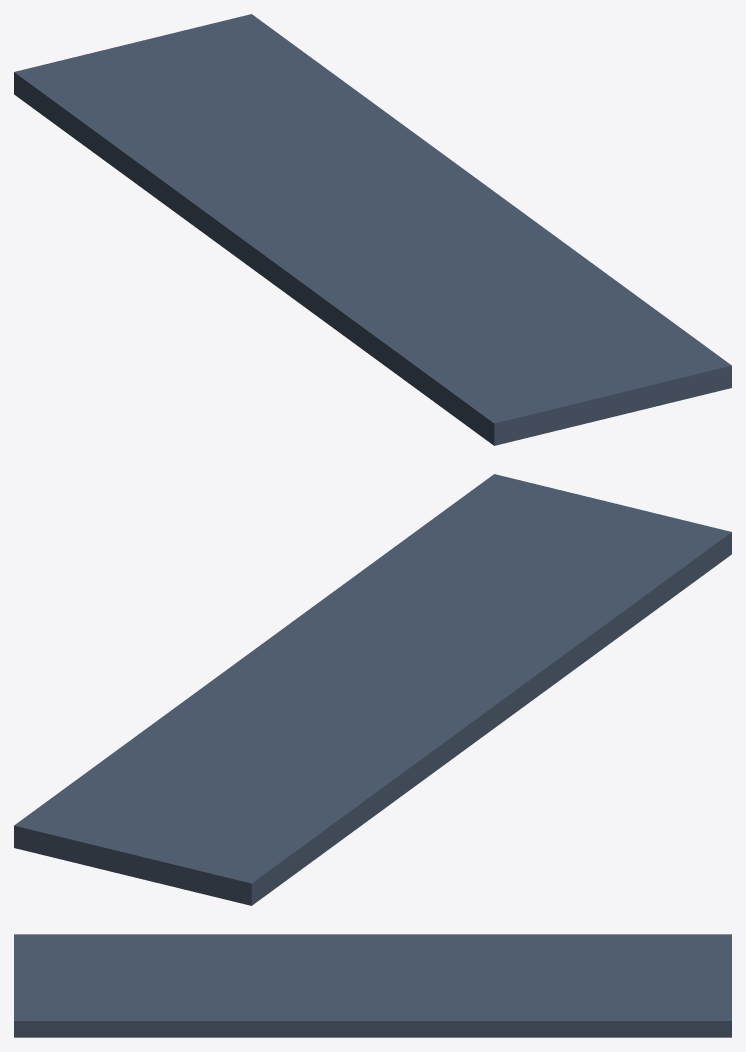
File: floor_003_u_medbay_floor_03.obj
3 renders of one model, top to bottom at view 1: azimuth 30°, elevation 25°; view 2: azimuth 150°, elevation 25°; view 3: azimuth 270°, elevation 25°, orthographic. The views are drawn at different scales.
Visible parts, largest first — view 1: Floor_003_u_medbay_floor_03; view 2: Floor_003_u_medbay_floor_03; view 3: Floor_003_u_medbay_floor_03.
Boxes of the visible parts, left/top/right/bottom form: Floor_003_u_medbay_floor_03: left=14, top=14, right=731, bottom=445; Floor_003_u_medbay_floor_03: left=14, top=474, right=731, bottom=905; Floor_003_u_medbay_floor_03: left=14, top=934, right=731, bottom=1037.
Bounding box in the file's own units: 2.22 × 0.2 × 7.78.
